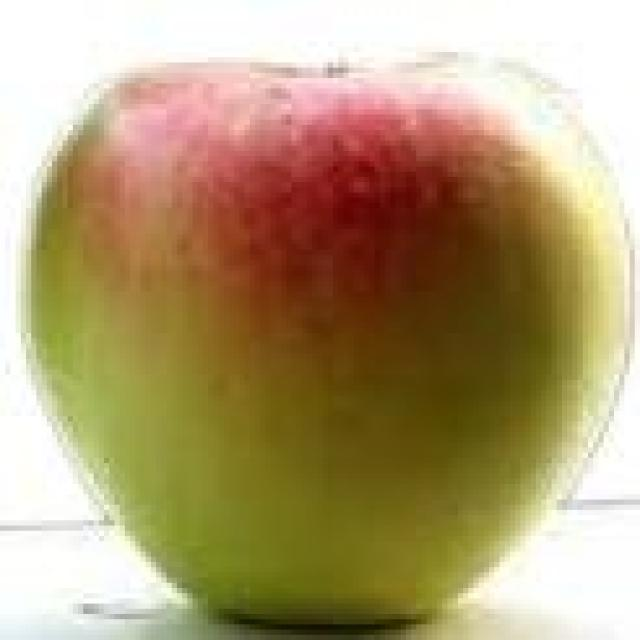Rotten Apple: (34, 65, 632, 622)
